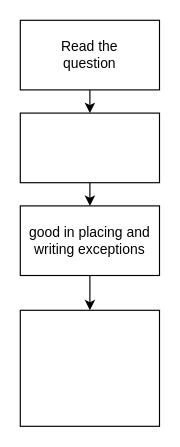
The diagram is 180 pixels wide and 447 high, and some of its shapes have lost their labels. The centre of each missing label's shape, as x and y in pixels:
Needed time to think about the placement of exceptions: (x=89, y=367)
wrote the code really quickly: (x=89, y=147)
